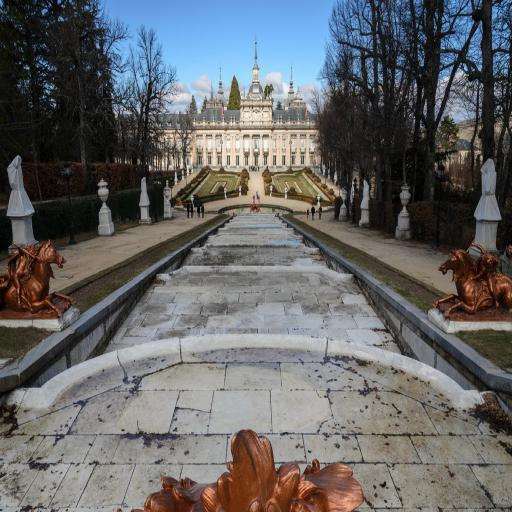horse: (0, 236, 79, 318), (430, 248, 512, 317)
